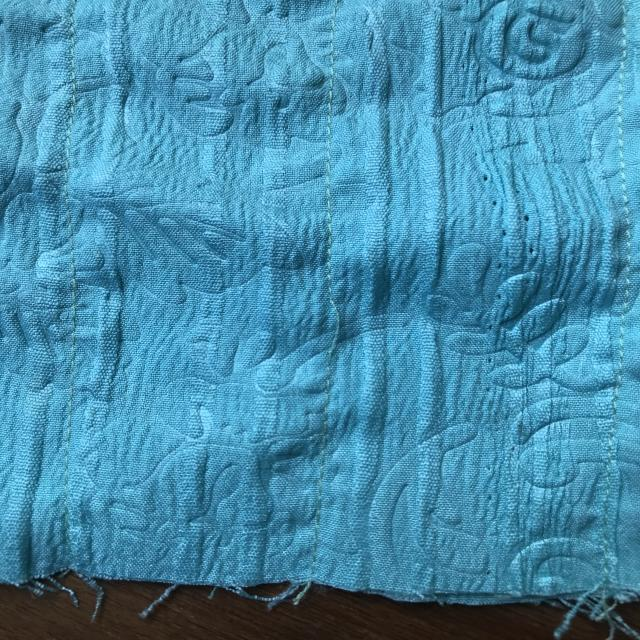skip: (314, 282, 358, 367)
